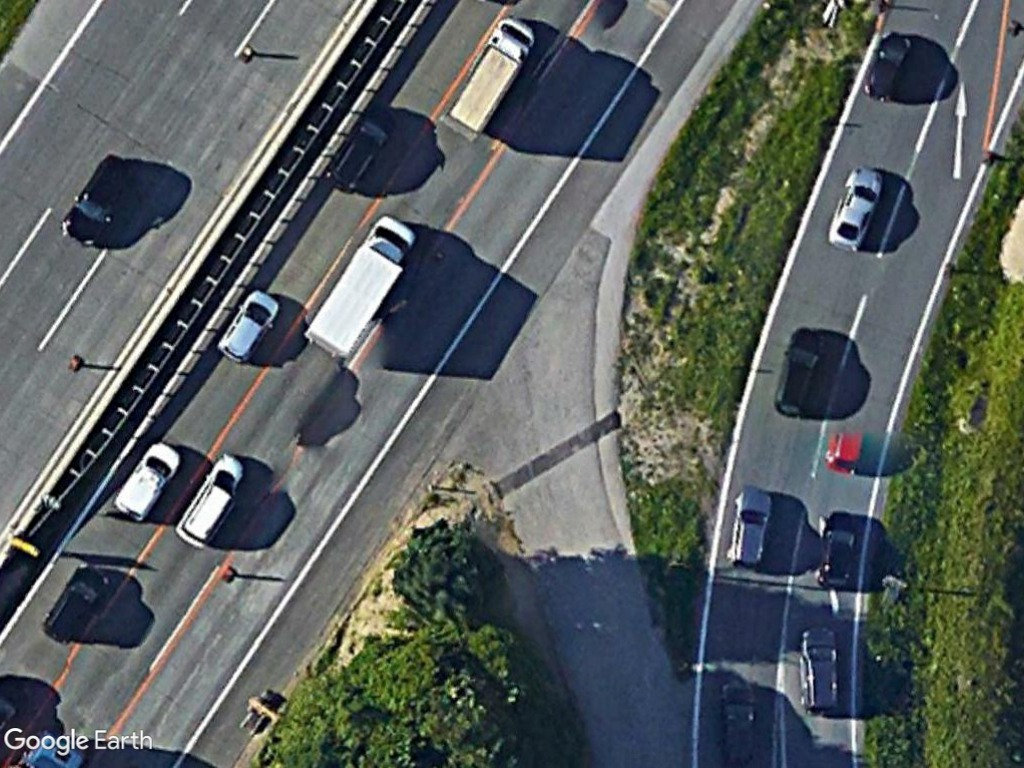car: (173, 448, 248, 554), (109, 433, 182, 527), (766, 321, 831, 423), (822, 159, 886, 258), (788, 621, 848, 721), (217, 283, 286, 369), (724, 480, 780, 576)
truck: (299, 210, 414, 363)
van: (436, 8, 539, 144)
